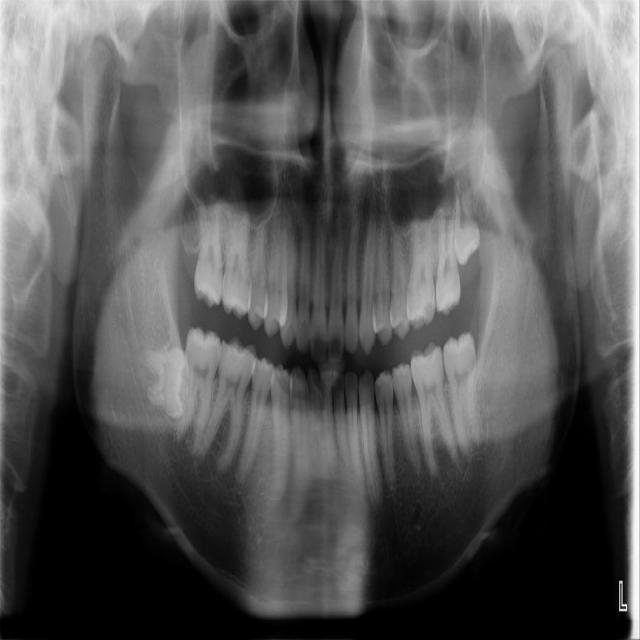73: (618, 610, 626, 618)
BioHorizons Implant: (435, 181, 461, 316)
BioLife Implant: (453, 184, 483, 268)
Blue Sky Bio Implant: (441, 330, 484, 456)
Caries: (193, 192, 224, 308)
Implant: (174, 326, 224, 456)
Keystone Dental Implant: (142, 345, 194, 423)
